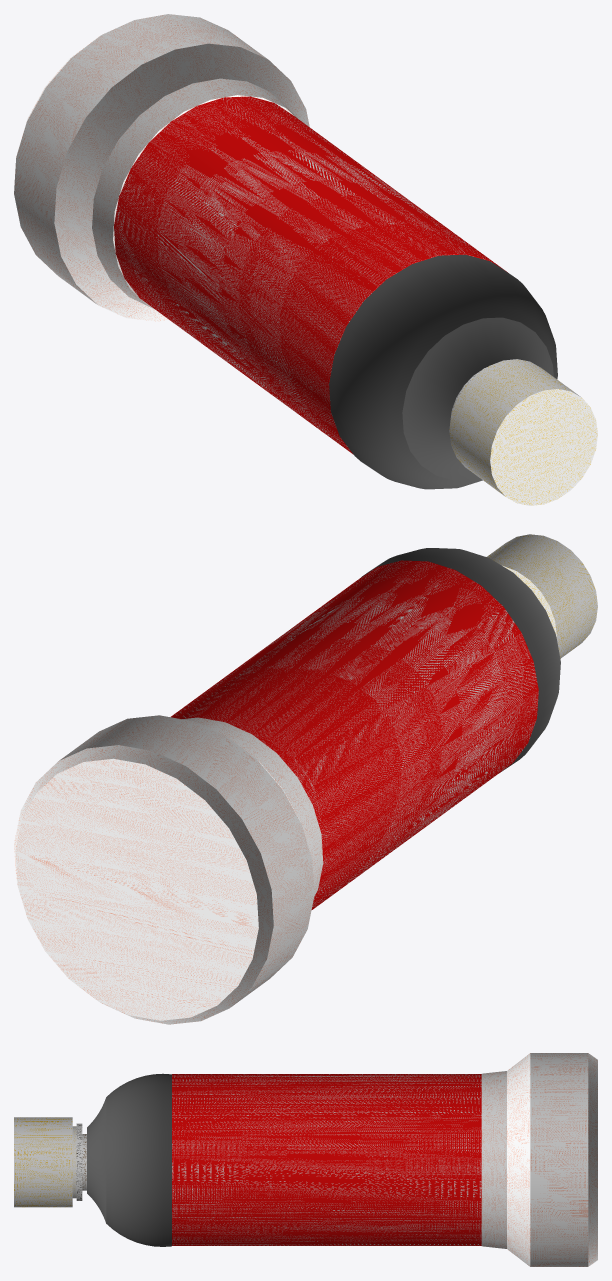
Rendered from model_align.obj.
3 renders of one model, top to bottom at view 1: azimuth 30°, elevation 25°; view 2: azimuth 150°, elevation 25°; view 3: azimuth 270°, elevation 25°, orthographic. The views are drawn at different scales.
Visible parts, largest first — view 1: mesh3_mesh3-geometry, mesh4_mesh4-geometry, mesh1_mesh1-geometry, mesh5_mesh5-geometry; view 2: mesh4_mesh4-geometry, mesh3_mesh3-geometry, mesh1_mesh1-geometry, mesh5_mesh5-geometry; view 3: mesh3_mesh3-geometry, mesh4_mesh4-geometry, mesh1_mesh1-geometry, mesh5_mesh5-geometry.
Part boxes in pixels (x1,y1,x2,y2): mesh3_mesh3-geometry: [114, 96, 507, 454]; mesh4_mesh4-geometry: [14, 14, 309, 321]; mesh1_mesh1-geometry: [329, 254, 557, 489]; mesh5_mesh5-geometry: [449, 359, 597, 505]; mesh4_mesh4-geometry: [14, 715, 323, 1024]; mesh3_mesh3-geometry: [170, 560, 538, 909]; mesh1_mesh1-geometry: [361, 548, 560, 772]; mesh5_mesh5-geometry: [487, 534, 597, 658]; mesh3_mesh3-geometry: [172, 1074, 481, 1245]; mesh4_mesh4-geometry: [481, 1053, 597, 1266]; mesh1_mesh1-geometry: [87, 1073, 171, 1246]; mesh5_mesh5-geometry: [14, 1117, 86, 1207].
Size of the model in its own units: 0.0482 by 0.0482 by 0.1311.
